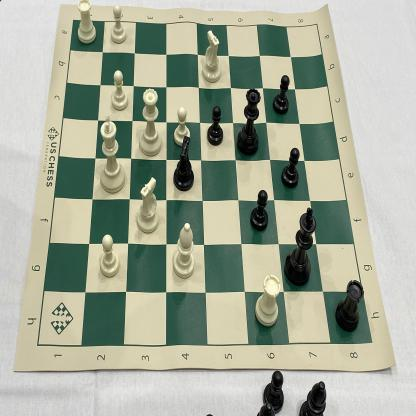black-king: (283, 203, 317, 288)
black-knight: (170, 137, 195, 193)
black-pawn: (205, 104, 227, 148), (280, 146, 301, 192), (249, 187, 270, 232), (272, 71, 290, 115)
black-queen: (237, 86, 262, 157)
black-rook: (334, 276, 365, 332)
white-bishop: (171, 217, 197, 281)
white-king: (96, 114, 127, 197)
white-knight: (136, 176, 160, 236), (200, 28, 222, 87)
white-pawn: (99, 233, 122, 279), (108, 4, 129, 45), (171, 104, 191, 146), (110, 68, 129, 112)
white-queen: (139, 85, 164, 158)
white-rook: (252, 272, 282, 328), (75, 0, 99, 47)
